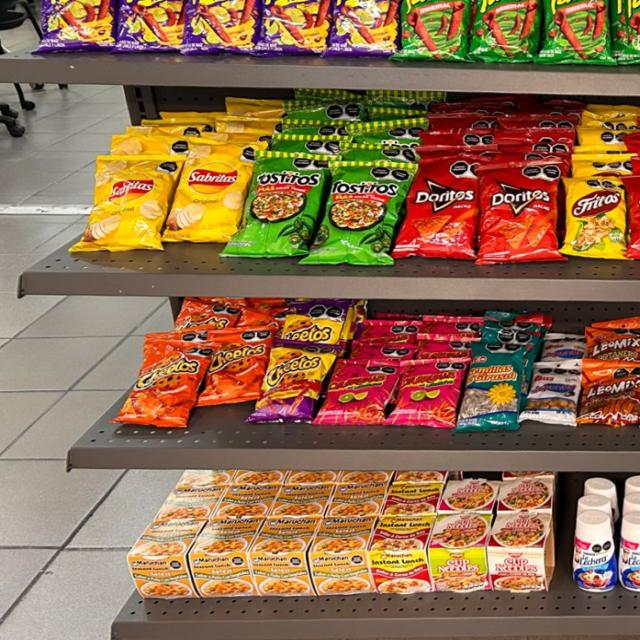cheetosFlaminHot: (265, 342, 316, 416)
cheetosOriginal: (132, 339, 197, 429), (210, 325, 260, 400)
churrumais: (399, 361, 457, 428), (331, 352, 384, 423)
doritosNacho: (480, 163, 552, 262), (410, 164, 470, 257)
fritosLimon: (564, 180, 621, 258)
leoCacahuates: (527, 361, 579, 425)
leoMix: (586, 356, 638, 426)
maruchanPollo: (137, 520, 194, 596), (256, 518, 311, 596), (316, 520, 366, 594), (200, 521, 250, 595)
maruchanRes: (372, 519, 427, 593)
nestleLechera: (571, 510, 615, 595), (621, 510, 640, 588)
nissinCamaron: (431, 509, 484, 592)
nissinRes: (489, 510, 557, 592)
sabritasOriginal: (90, 151, 166, 254), (182, 154, 238, 242)
semillasGirasol: (468, 358, 519, 430)
takisFuego: (43, 0, 113, 49), (333, 0, 397, 52), (264, 0, 325, 53), (122, 3, 184, 51), (191, 4, 255, 49)
takisOriginal: (404, 0, 471, 60), (548, 0, 607, 66), (480, 1, 540, 61)
tostitos: (328, 152, 392, 262), (252, 153, 312, 255)
